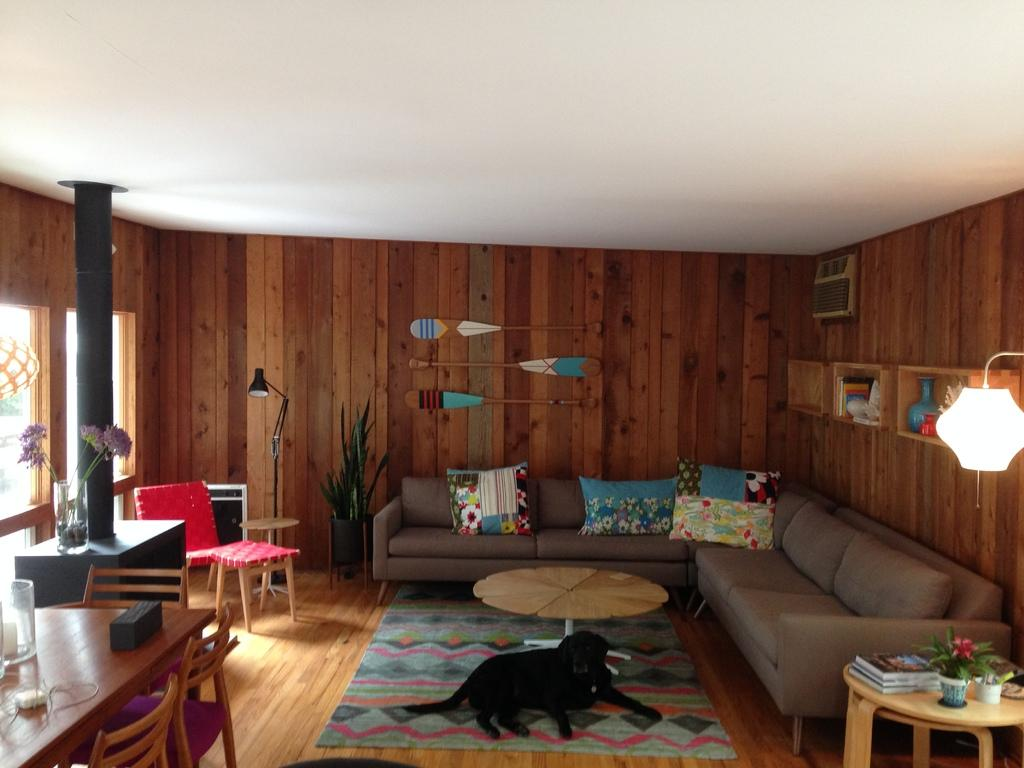Chair: (132, 479, 300, 633)
